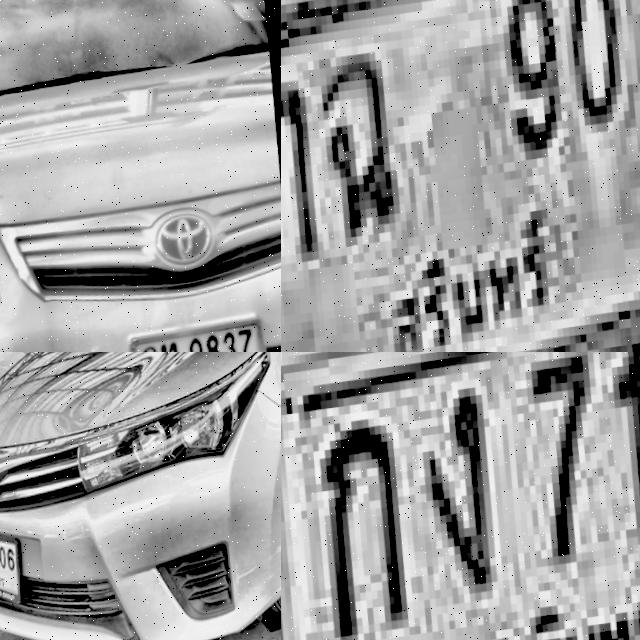license-plate: (281, 0, 640, 352), (281, 352, 640, 640), (120, 315, 276, 352), (0, 505, 40, 623)
